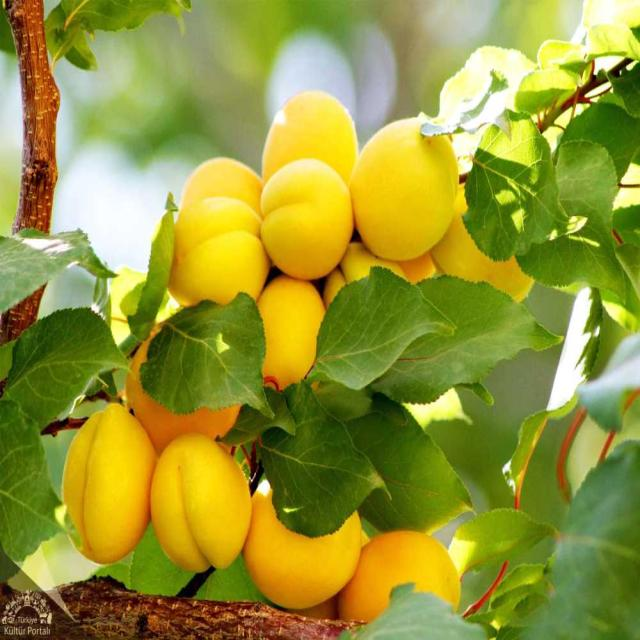kayisi: (185, 82, 460, 294)
kayisi-yapragi: (145, 298, 640, 464), (462, 34, 640, 276), (467, 496, 637, 630), (0, 224, 63, 573)
